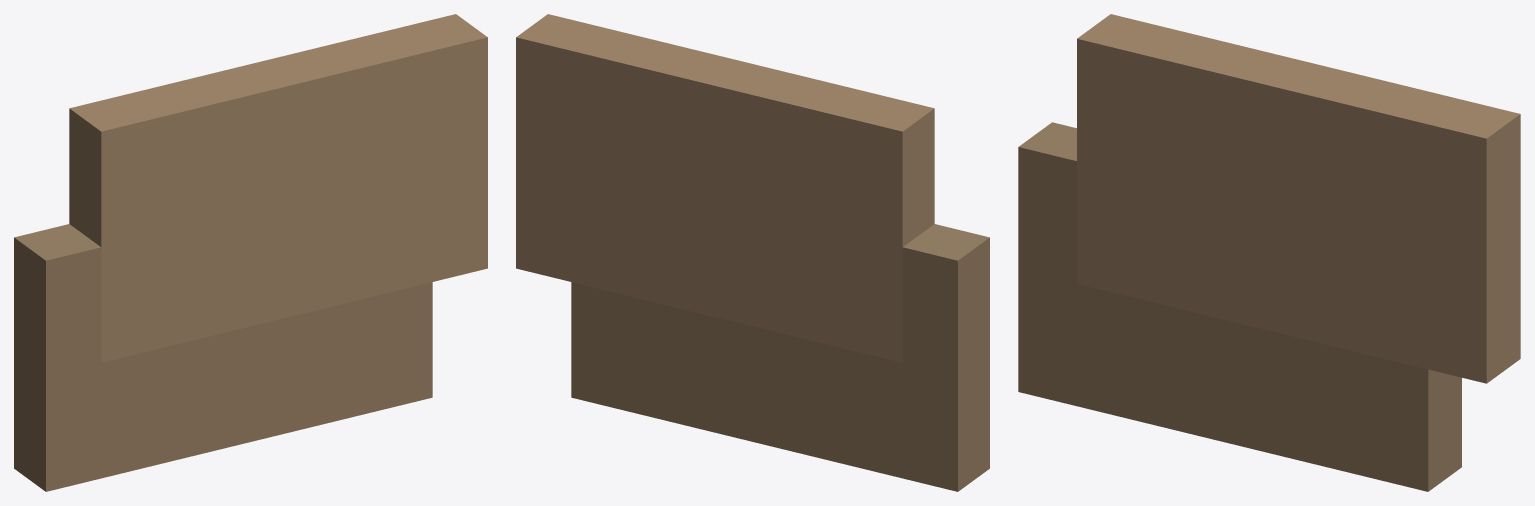
File: viga_vista_castano_01.glb
The picture shows the model from 3 angles, left to right: view 1: azimuth 30°, elevation 25°; view 2: azimuth 150°, elevation 25°; view 3: azimuth 330°, elevation 25°; orthographic projection. The views are drawn at different scales.
Visible parts, largest first — view 1: viga_vista_castano; view 2: viga_vista_castano; view 3: viga_vista_castano.
Boxes of the visible parts, x1,y1,x2,y2 form: viga_vista_castano: (14,14,487,491); viga_vista_castano: (516,14,989,491); viga_vista_castano: (1018,14,1520,491).
Bounding box in the file's own units: 0.7273 × 0.5455 × 0.0909.
